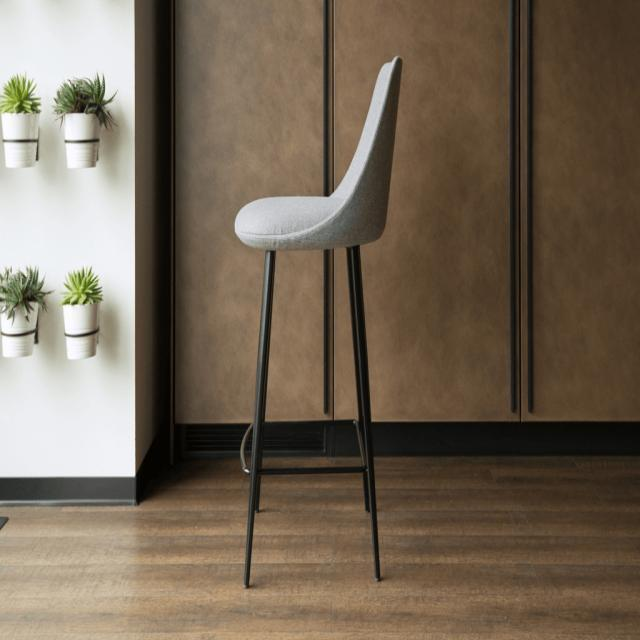chair: (231, 55, 407, 592), (232, 58, 402, 254)
